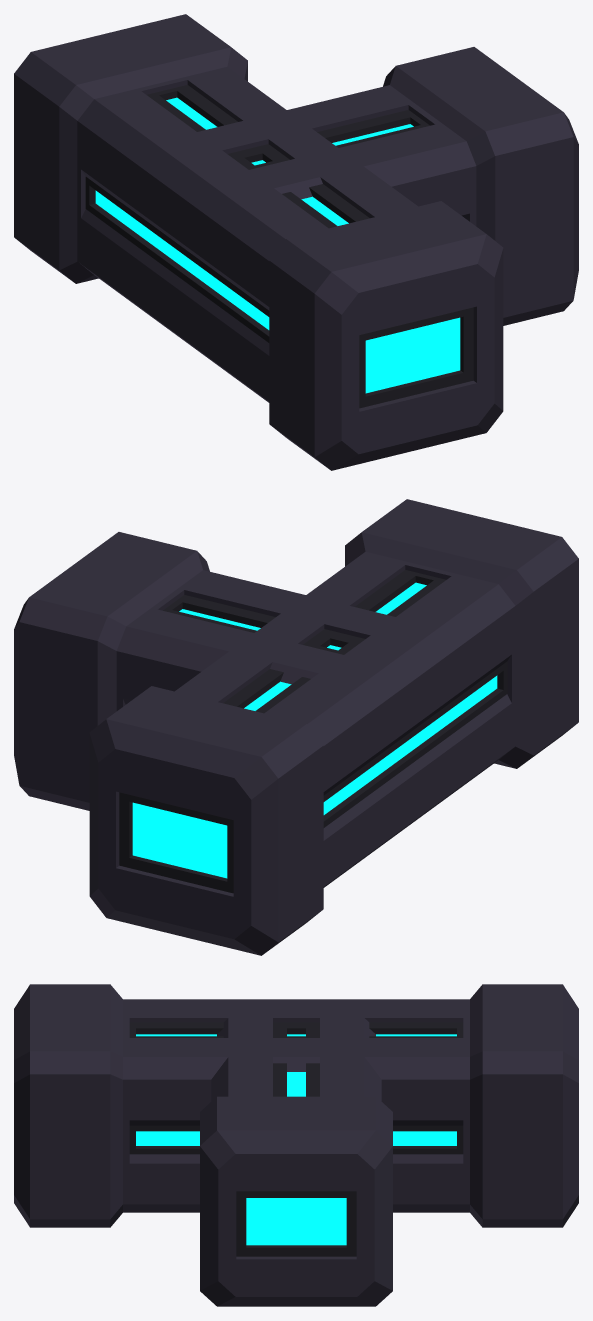
File: SM_Tuyau_Tes.fbx
The picture shows the model from 3 angles, top to bottom: view 1: azimuth 30°, elevation 25°; view 2: azimuth 150°, elevation 25°; view 3: azimuth 270°, elevation 25°; orthographic projection. The views are drawn at different scales.
Parts seen in each view (by area): view 1: Tuyau_Tés; view 2: Tuyau_Tés; view 3: Tuyau_Tés.
Boxes of the visible parts, <box> form: Tuyau_Tés: <box>14,14,578,470</box>; Tuyau_Tés: <box>14,499,578,955</box>; Tuyau_Tés: <box>14,984,578,1306</box>.
Bounding box in the file's own units: 58.91 × 30.23 × 87.79.
